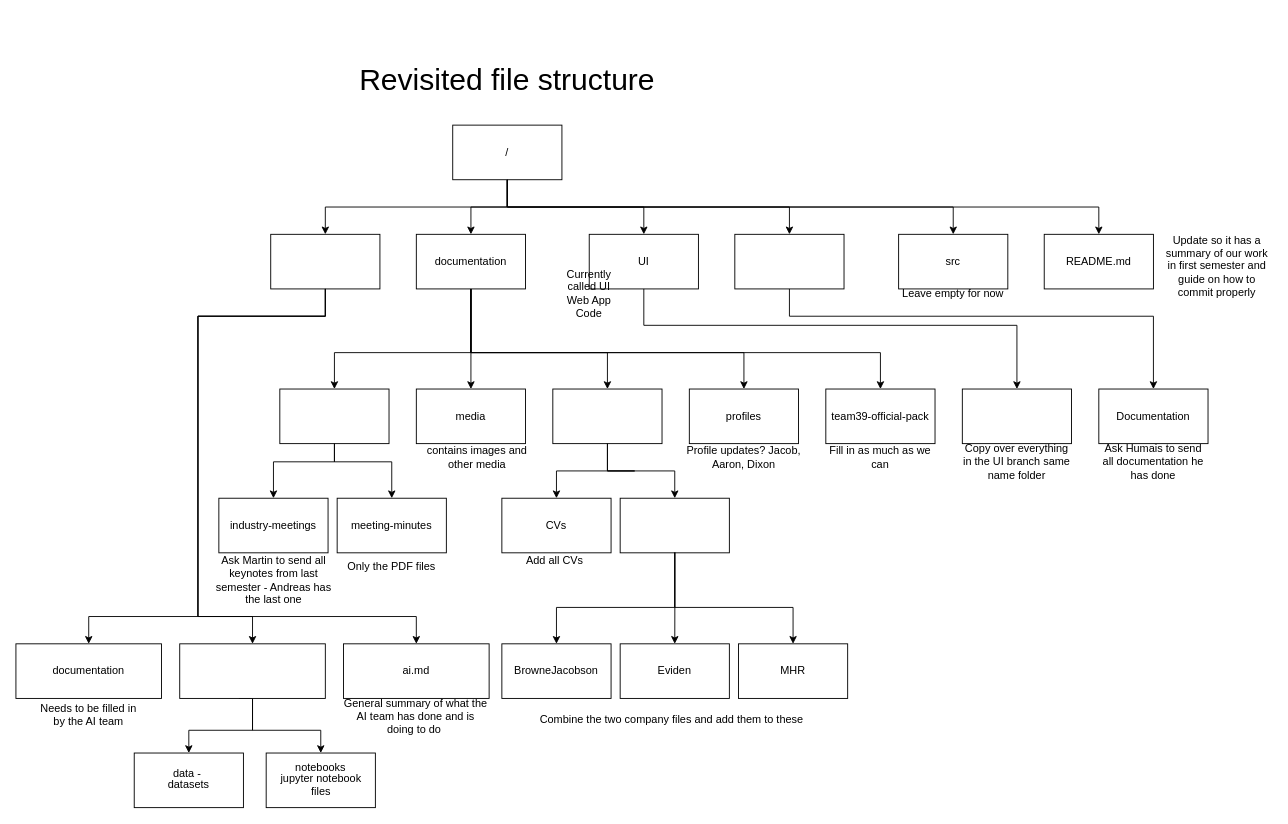
Some shapes in this 1288 by 824 pixel diagram are drawn without their labels. Here are the shapes that lost their labels. From the top down, the centre of each, then its label:
At point (325, 261): "ai".
At point (789, 261): "backend".
At point (334, 416): "Communication".
At point (607, 416): "pitch-phase-old".
At point (1016, 416): "UI WebApp code".
At point (674, 525): "EOIs & Pitches".
At point (252, 670): "data_collection".
